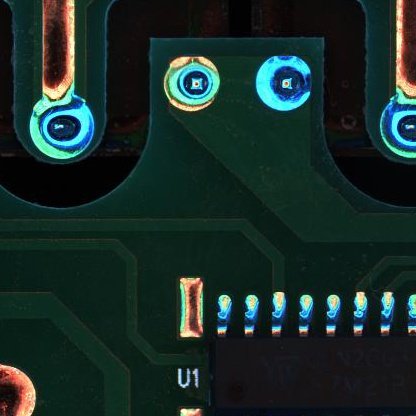spot: (28, 96, 98, 161), (162, 55, 222, 114), (256, 55, 315, 112), (379, 97, 416, 161)
